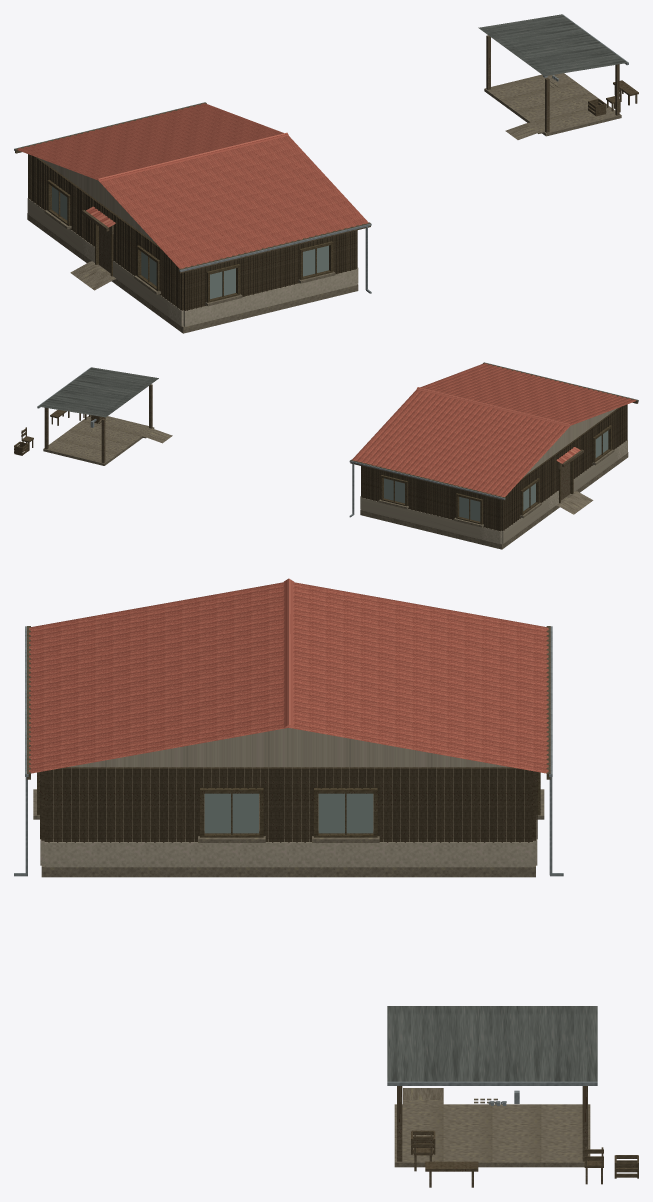
3 renders of one model, top to bottom at view 1: azimuth 30°, elevation 25°; view 2: azimuth 150°, elevation 25°; view 3: azimuth 270°, elevation 25°, orthographic. The views are drawn at different scales.
Parts seen in each view (by area): view 1: H24_TELHAS, H24_PATIO_CHAPAS_UMA_AGUA, H24_MATA_JUNTAS, H24_FACHADA_MADEIRA, H24_PATIO_BASE, H24_LATERAIS_MADEIRA, H24_LATERAIS_ALVENARIA, H24_FACHADA_ALVENARIA, H24_FUNDACAO, H24_VIDROS_RECUADOS, H24_CAIXILHOS, H24_OITOES (+7 smaller); view 2: H24_TELHAS, H24_PATIO_CHAPAS_UMA_AGUA, H24_MATA_JUNTAS, H24_FACHADA_MADEIRA, H24_PATIO_BASE, H24_LATERAIS_MADEIRA, H24_LATERAIS_ALVENARIA, H24_FACHADA_ALVENARIA, H24_FUNDACAO, H24_VIDROS_RECUADOS, H24_CAIXILHOS, H24_OITOES (+7 smaller); view 3: H24_TELHAS, H24_FUNDOS_MADEIRA, H24_PATIO_CHAPAS_UMA_AGUA, H24_FUNDOS_ALVENARIA, H24_PATIO_BASE, H24_OITOES, H24_FUNDACAO, H24_MATA_JUNTAS, H24_VIDROS_RECUADOS, H24_CAIXILHOS, H24_CUMEEIRA, H24_PEITORIS (+3 smaller).
Boxes of the visible parts, <box> form: H24_TELHAS: <box>17,103,368,268</box>; H24_PATIO_CHAPAS_UMA_AGUA: <box>478,14,627,76</box>; H24_MATA_JUNTAS: <box>28,154,355,310</box>; H24_FACHADA_MADEIRA: <box>28,154,183,310</box>; H24_PATIO_BASE: <box>484,73,621,136</box>; H24_LATERAIS_MADEIRA: <box>184,230,356,310</box>; H24_LATERAIS_ALVENARIA: <box>183,269,357,326</box>; H24_FACHADA_ALVENARIA: <box>27,198,183,326</box>; H24_FUNDACAO: <box>27,213,358,333</box>; H24_VIDROS_RECUADOS: <box>52,186,328,299</box>; H24_CAIXILHOS: <box>47,180,333,302</box>; H24_OITOES: <box>40,158,156,243</box>; H24_TELHAS: <box>352,363,635,496</box>; H24_PATIO_CHAPAS_UMA_AGUA: <box>38,367,158,417</box>; H24_MATA_JUNTAS: <box>362,405,627,530</box>; H24_FACHADA_MADEIRA: <box>501,404,627,530</box>; H24_PATIO_BASE: <box>43,415,154,465</box>; H24_LATERAIS_MADEIRA: <box>361,466,501,531</box>; H24_LATERAIS_ALVENARIA: <box>361,497,501,544</box>; H24_FACHADA_ALVENARIA: <box>501,440,627,543</box>; H24_FUNDACAO: <box>360,452,628,549</box>; H24_VIDROS_RECUADOS: <box>384,430,608,521</box>; H24_CAIXILHOS: <box>380,425,611,524</box>; H24_OITOES: <box>524,408,617,476</box>; H24_TELHAS: <box>29,582,548,773</box>; H24_FUNDOS_MADEIRA: <box>44,767,532,841</box>; H24_PATIO_CHAPAS_UMA_AGUA: <box>387,1006,597,1081</box>; H24_FUNDOS_ALVENARIA: <box>44,839,533,867</box>; H24_PATIO_BASE: <box>394,1104,590,1167</box>; H24_OITOES: <box>67,728,509,767</box>; H24_FUNDACAO: <box>41,767,535,877</box>; H24_MATA_JUNTAS: <box>40,768,537,842</box>; H24_VIDROS_RECUADOS: <box>204,793,373,833</box>; H24_CAIXILHOS: <box>37,772,540,837</box>; H24_CUMEEIRA: <box>283,578,294,727</box>; H24_PEITORIS: <box>33,789,544,842</box>.
Size of the model in its own units: 26.96 by 4.28 by 15.35.
12 materials, 10 textured.
